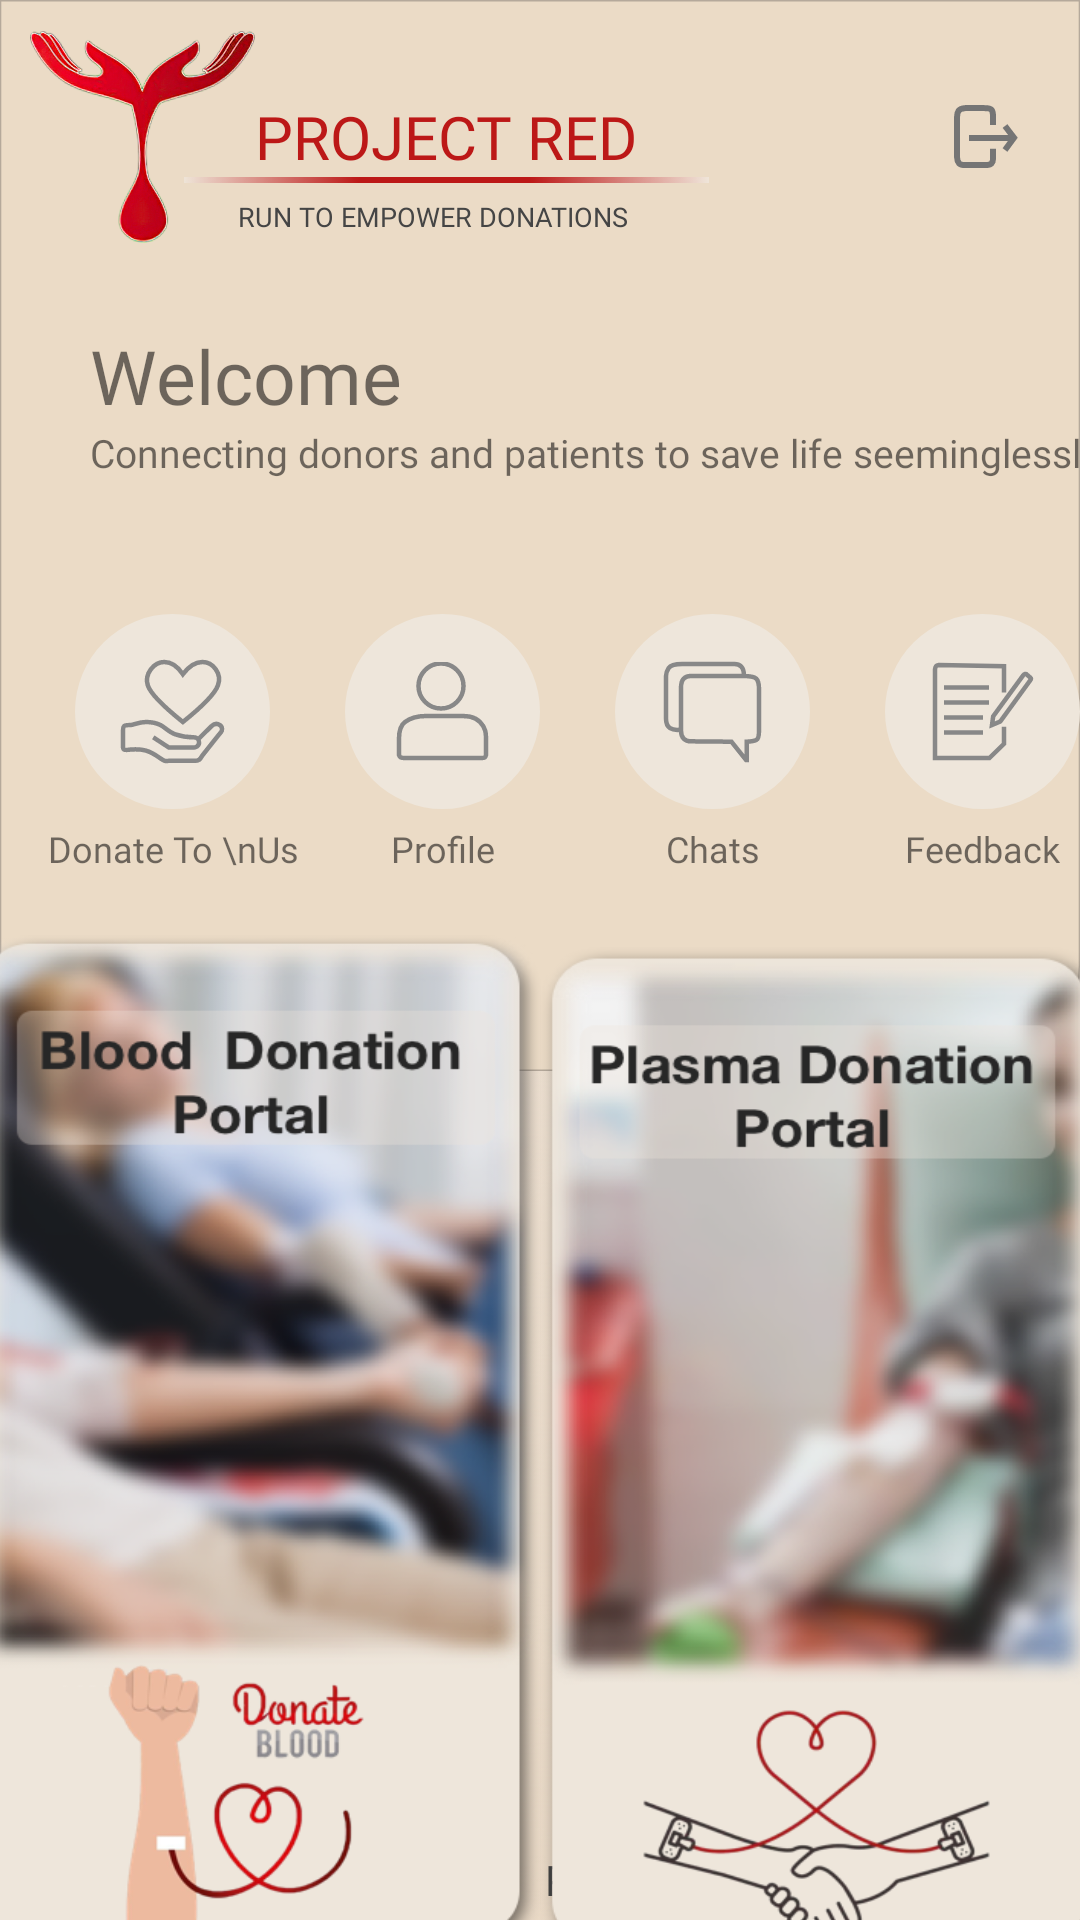

Where to tap for icons on this 1080*1920 app screen, as (x,y):
donation: (172,711)
